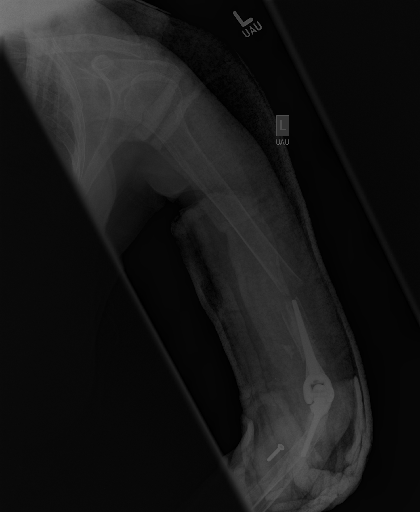fracture: (257, 234, 316, 346)
